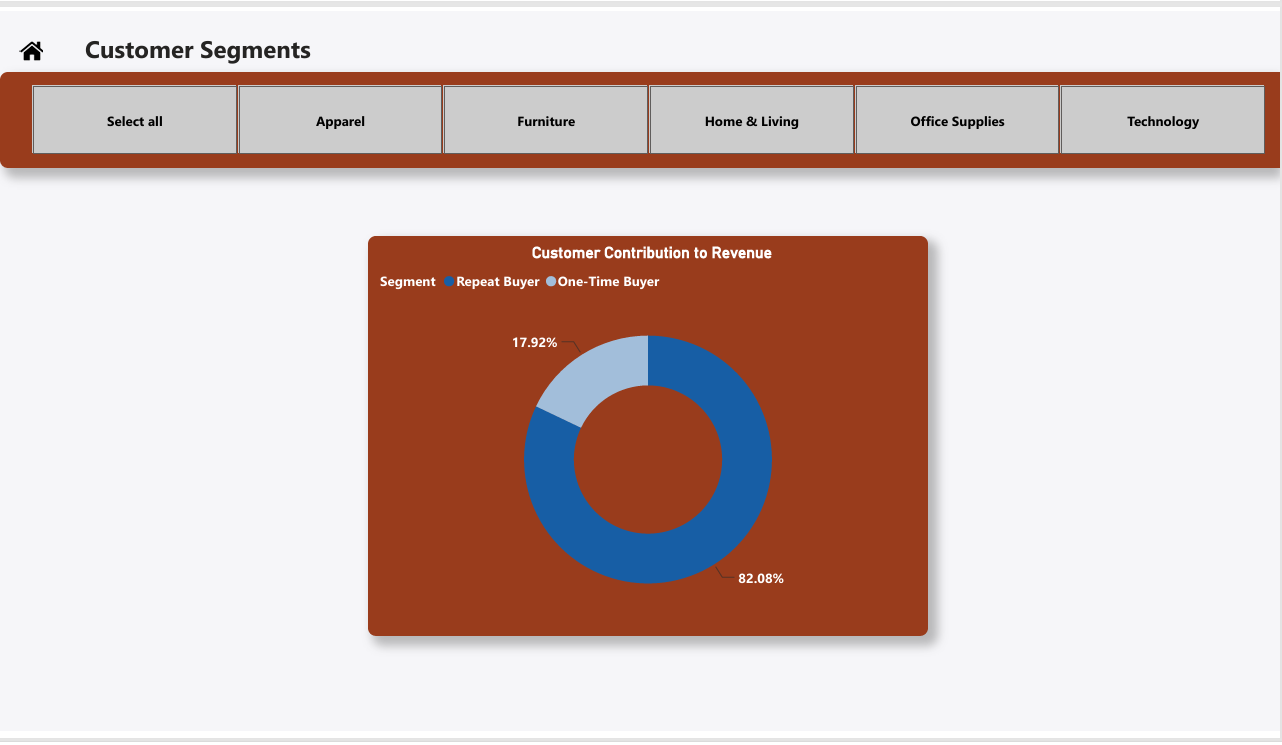

What the dashboard file says about the page in this screenshot:
{"tool":"powerbi","page":{"name":"Customer Segments","canvas":[1280,720],"ordinal":7},"visuals":[{"type":"image","box":[20,15,24,48],"z":0,"group":"g1"},{"type":"slicer","fields":{"Values":["sales_revenue_dataset.Category"]},"box":[0,60,1296,96],"z":0},{"type":"group","id":"g1","title":"Group 1","box":[20,15,492,72],"z":1000},{"type":"textbox","box":[80,15,432,72],"z":1000,"group":"g1"},{"type":"donutChart","title":"Customer Contribution to Revenue","fields":{"Category":["Customer Segment.Segment"],"Y":["Customer Segment.Revenue % Contribution"]},"box":[368,224,560,400],"z":2000}]}

Visuals, with their boxes on the page's 1280x720 design canvas (x1, y1, x2, y2). These are canvas units, not pixel positions in the 1282x745 screenshot, which may show the page scaled, cropped or inside an application window:
image: (left=20, top=15, right=44, bottom=63)
slicer - sales_revenue_dataset.Category: (left=0, top=60, right=1296, bottom=156)
"Group 1" group: (left=20, top=15, right=512, bottom=87)
textbox: (left=80, top=15, right=512, bottom=87)
"Customer Contribution to Revenue" donutChart: (left=368, top=224, right=928, bottom=624)
